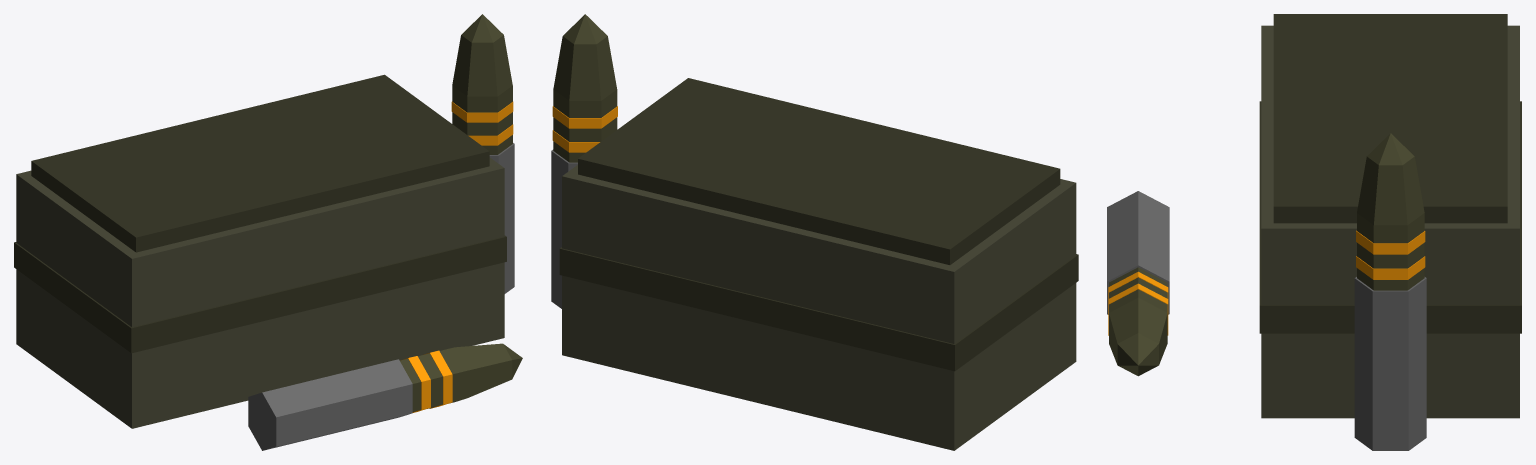
File: ce_ammo2_rcl84_heab_c.obj
3 views of the same model, side by side, from view 1: azimuth 30°, elevation 25°; view 2: azimuth 150°, elevation 25°; view 3: azimuth 270°, elevation 25° (orthographic). The views are drawn at different scales.
Parts seen in each view (by area): view 1: ce_ammo2_rcl84_heab_c_0, ce_ammo2_rcl84_heab_c_1, ce_ammo2_rcl84_heab_c_2, ce_ammo2_rcl84_heab_c_11, ce_ammo2_rcl84_heab_c_9, ce_ammo2_rcl84_heab_c_17, ce_ammo2_rcl84_heab_c_3, ce_ammo2_rcl84_heab_c_8, ce_ammo2_rcl84_heab_c_16, ce_ammo2_rcl84_heab_c_6, ce_ammo2_rcl84_heab_c_10, ce_ammo2_rcl84_heab_c_7 (+4 smaller); view 2: ce_ammo2_rcl84_heab_c_0, ce_ammo2_rcl84_heab_c_1, ce_ammo2_rcl84_heab_c_2, ce_ammo2_rcl84_heab_c_9, ce_ammo2_rcl84_heab_c_3, ce_ammo2_rcl84_heab_c_8, ce_ammo2_rcl84_heab_c_6, ce_ammo2_rcl84_heab_c_10, ce_ammo2_rcl84_heab_c_7; view 3: ce_ammo2_rcl84_heab_c_1, ce_ammo2_rcl84_heab_c_0, ce_ammo2_rcl84_heab_c_3, ce_ammo2_rcl84_heab_c_2, ce_ammo2_rcl84_heab_c_11, ce_ammo2_rcl84_heab_c_9, ce_ammo2_rcl84_heab_c_17, ce_ammo2_rcl84_heab_c_18, ce_ammo2_rcl84_heab_c_8, ce_ammo2_rcl84_heab_c_6, ce_ammo2_rcl84_heab_c_10, ce_ammo2_rcl84_heab_c_7 (+4 smaller).
Part boxes in pixels (<box>): ce_ammo2_rcl84_heab_c_0: <box>16,157,504,428</box>; ce_ammo2_rcl84_heab_c_1: <box>31,74,489,252</box>; ce_ammo2_rcl84_heab_c_2: <box>14,235,506,353</box>; ce_ammo2_rcl84_heab_c_11: <box>248,359,412,450</box>; ce_ammo2_rcl84_heab_c_9: <box>452,35,512,96</box>; ce_ammo2_rcl84_heab_c_17: <box>455,343,512,397</box>; ce_ammo2_rcl84_heab_c_3: <box>489,143,514,293</box>; ce_ammo2_rcl84_heab_c_8: <box>452,85,512,112</box>; ce_ammo2_rcl84_heab_c_16: <box>439,347,467,403</box>; ce_ammo2_rcl84_heab_c_6: <box>452,112,512,135</box>; ce_ammo2_rcl84_heab_c_10: <box>461,14,503,42</box>; ce_ammo2_rcl84_heab_c_7: <box>451,101,513,122</box>; ce_ammo2_rcl84_heab_c_0: <box>562,165,1076,450</box>; ce_ammo2_rcl84_heab_c_1: <box>578,78,1060,264</box>; ce_ammo2_rcl84_heab_c_2: <box>559,247,1078,371</box>; ce_ammo2_rcl84_heab_c_9: <box>553,36,616,100</box>; ce_ammo2_rcl84_heab_c_3: <box>551,149,577,308</box>; ce_ammo2_rcl84_heab_c_8: <box>553,89,617,117</box>; ce_ammo2_rcl84_heab_c_6: <box>553,117,617,141</box>; ce_ammo2_rcl84_heab_c_10: <box>563,14,607,44</box>; ce_ammo2_rcl84_heab_c_7: <box>552,106,617,128</box>; ce_ammo2_rcl84_heab_c_1: <box>1273,14,1507,223</box>; ce_ammo2_rcl84_heab_c_0: <box>1261,25,1519,418</box>; ce_ammo2_rcl84_heab_c_3: <box>1354,277,1426,450</box>; ce_ammo2_rcl84_heab_c_2: <box>1259,101,1521,333</box>; ce_ammo2_rcl84_heab_c_11: <box>1107,191,1169,314</box>; ce_ammo2_rcl84_heab_c_9: <box>1357,156,1424,225</box>; ce_ammo2_rcl84_heab_c_17: <box>1109,297,1167,364</box>; ce_ammo2_rcl84_heab_c_18: <box>1117,333,1158,376</box>; ce_ammo2_rcl84_heab_c_8: <box>1357,213,1424,243</box>; ce_ammo2_rcl84_heab_c_6: <box>1357,242,1424,268</box>; ce_ammo2_rcl84_heab_c_10: <box>1367,133,1414,165</box>; ce_ammo2_rcl84_heab_c_7: <box>1356,230,1425,254</box>.
Bounding box in the file's own units: 0.9087 × 0.546 × 0.6737.
